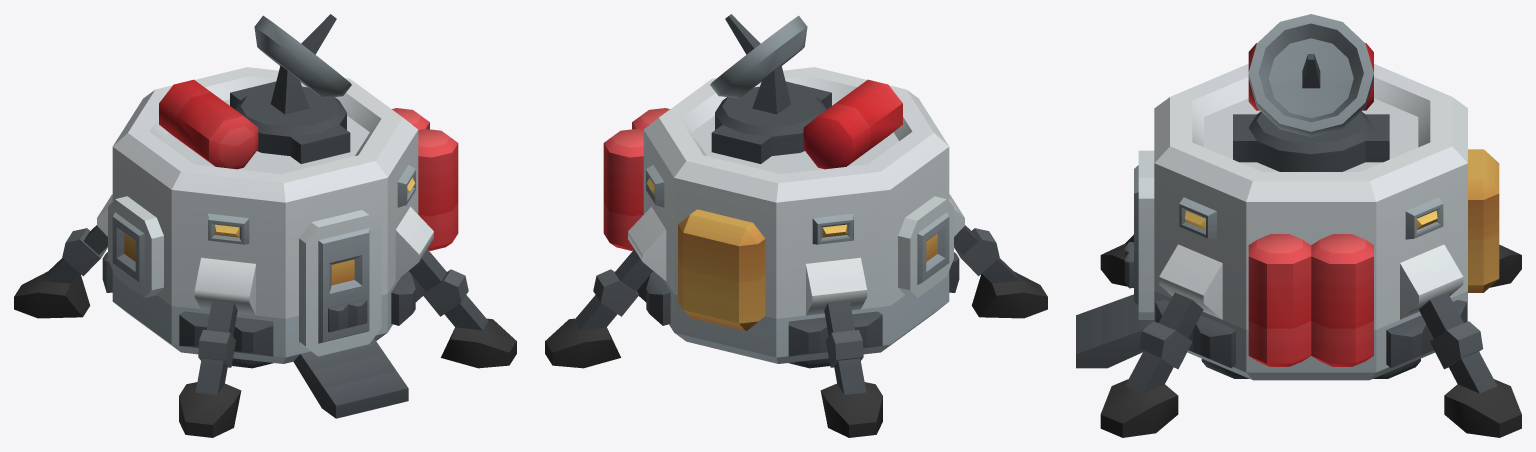
The model's file is lander.glb.
3 renders of one model, left to right at view 1: azimuth 30°, elevation 25°; view 2: azimuth 150°, elevation 25°; view 3: azimuth 270°, elevation 25°, orthographic. The views are drawn at different scales.
Visible parts, largest first — view 1: lander_A; view 2: lander_A; view 3: lander_A.
Part boxes in pixels (left/top/right/bottom): lander_A: left=14, top=14, right=516, bottom=437; lander_A: left=545, top=14, right=1047, bottom=437; lander_A: left=1076, top=14, right=1521, bottom=437.
Bounding box in the file's own units: 1.37 × 1.19 × 1.42.
1 material, 1 textured.
